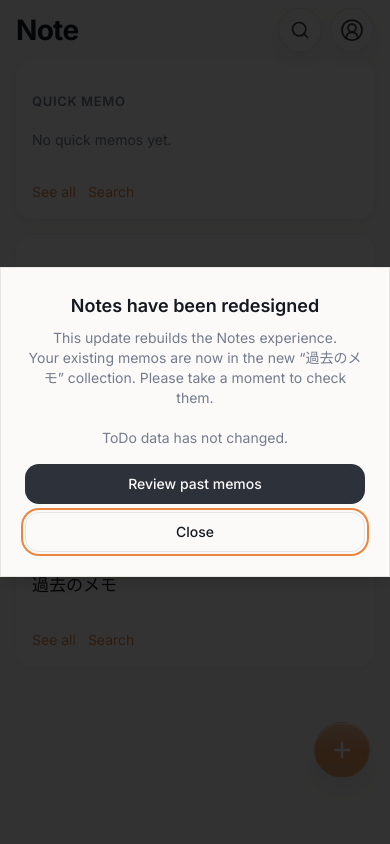
Phase 9 Notes V3 UI › 22. opens 過去のメモ from the migration notice
Check: the dialog with test id "memo-archive-notice" is shown, box [0, 267, 389, 577]
Click the button with test id "memo-archive-notice-open": coordinates (195, 484) [25, 464, 365, 504]
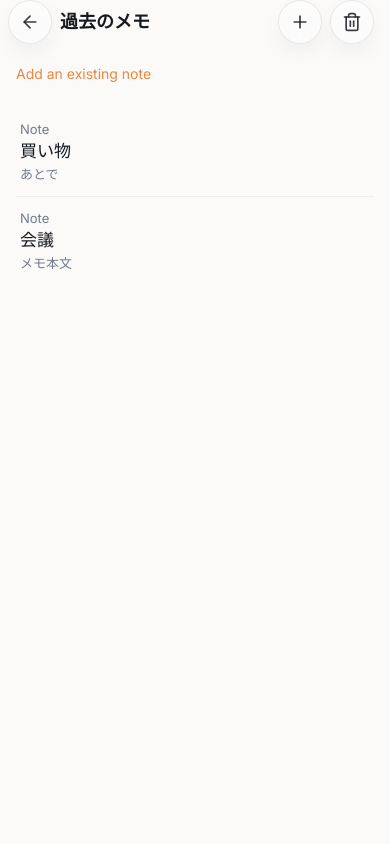
Check: the text "会議" is shown, box [20, 230, 54, 250]
Check: the element with test id "collection-page" is shown
